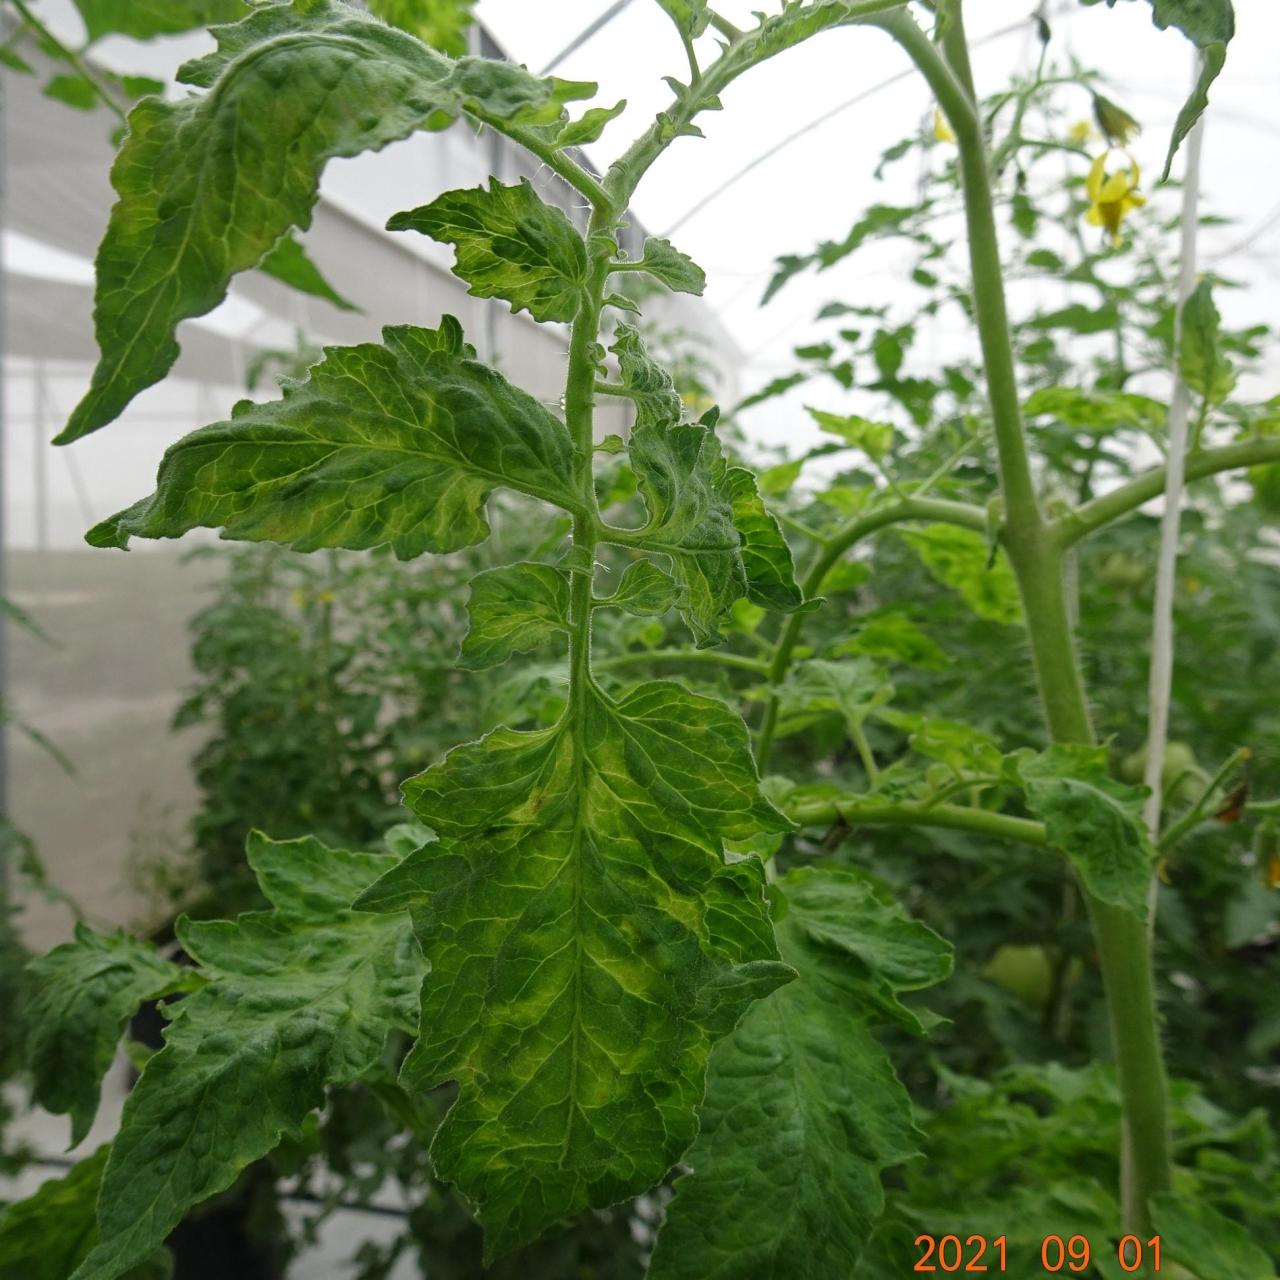T_L_R: (373, 655, 778, 1271), (59, 1, 586, 444), (89, 319, 580, 561), (390, 179, 588, 324)
T_S_H: (863, 2, 1096, 744), (1085, 894, 1171, 1234)
